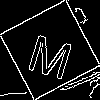M: (25, 25, 78, 81)
